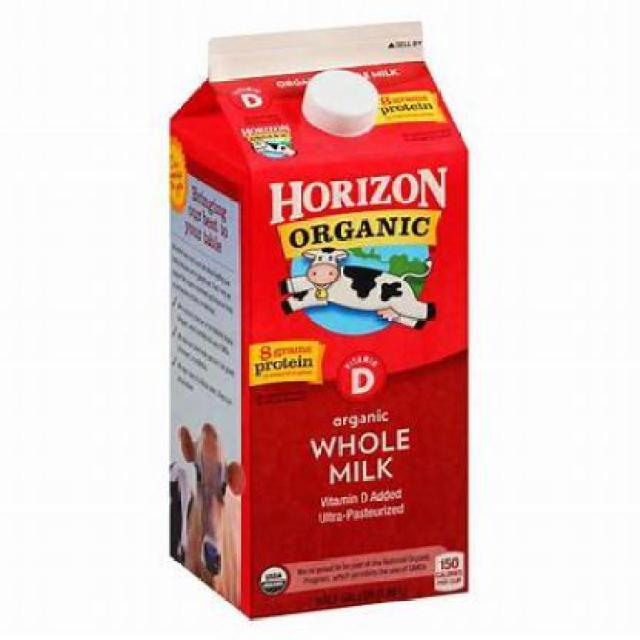drink carton: (168, 18, 470, 620)
plastic bottle cap: (301, 69, 383, 139)
